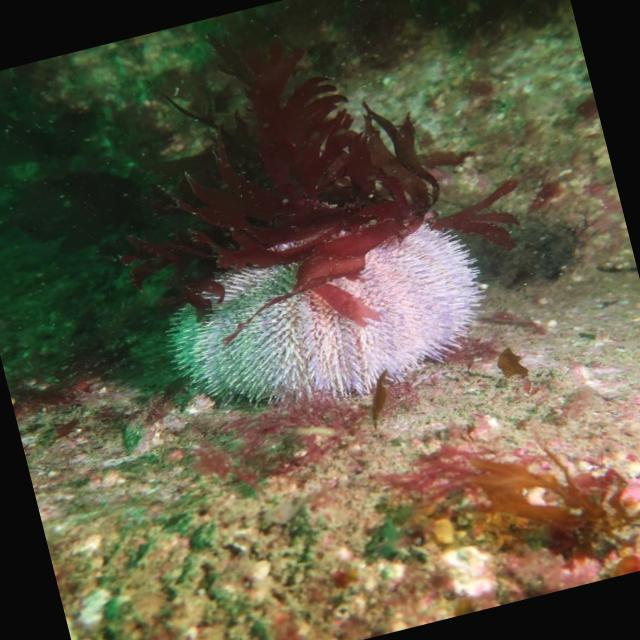Deniz Kestanesi: (140, 185, 500, 438)
